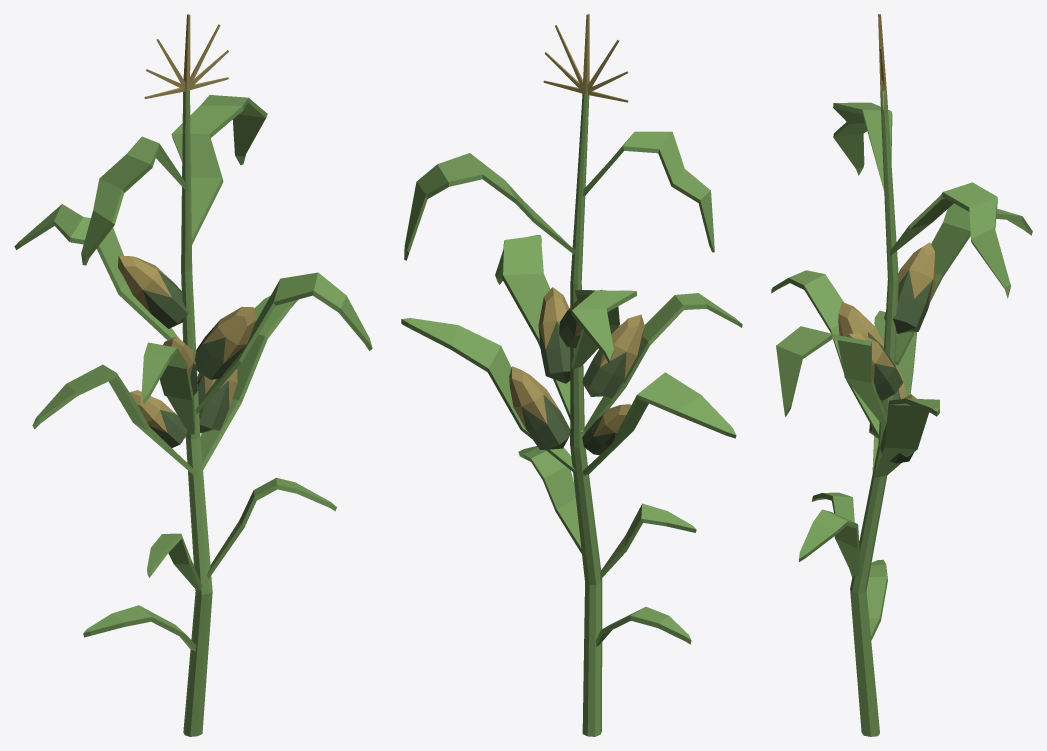
Rendered from corn_4.glb.
3 views of the same model, side by side, from view 1: azimuth 30°, elevation 25°; view 2: azimuth 150°, elevation 25°; view 3: azimuth 270°, elevation 25° (orthographic).
Visible parts, largest first — view 1: Green, Yellow, DarkGreen2; view 2: Green, Yellow, DarkGreen2; view 3: Green, Yellow, DarkGreen2.
Part boxes in pixels (box(x1,y1,x2,y2)): Green: box(14, 87, 372, 736); Yellow: box(118, 14, 255, 432); DarkGreen2: box(143, 270, 245, 447); Green: box(401, 91, 742, 736); Yellow: box(509, 14, 644, 437); DarkGreen2: box(521, 310, 626, 455); Green: box(771, 89, 1032, 736); Yellow: box(838, 14, 935, 399); DarkGreen2: box(868, 270, 933, 463).
Size of the model in its own units: 0.8873 by 1.97 by 0.649.
